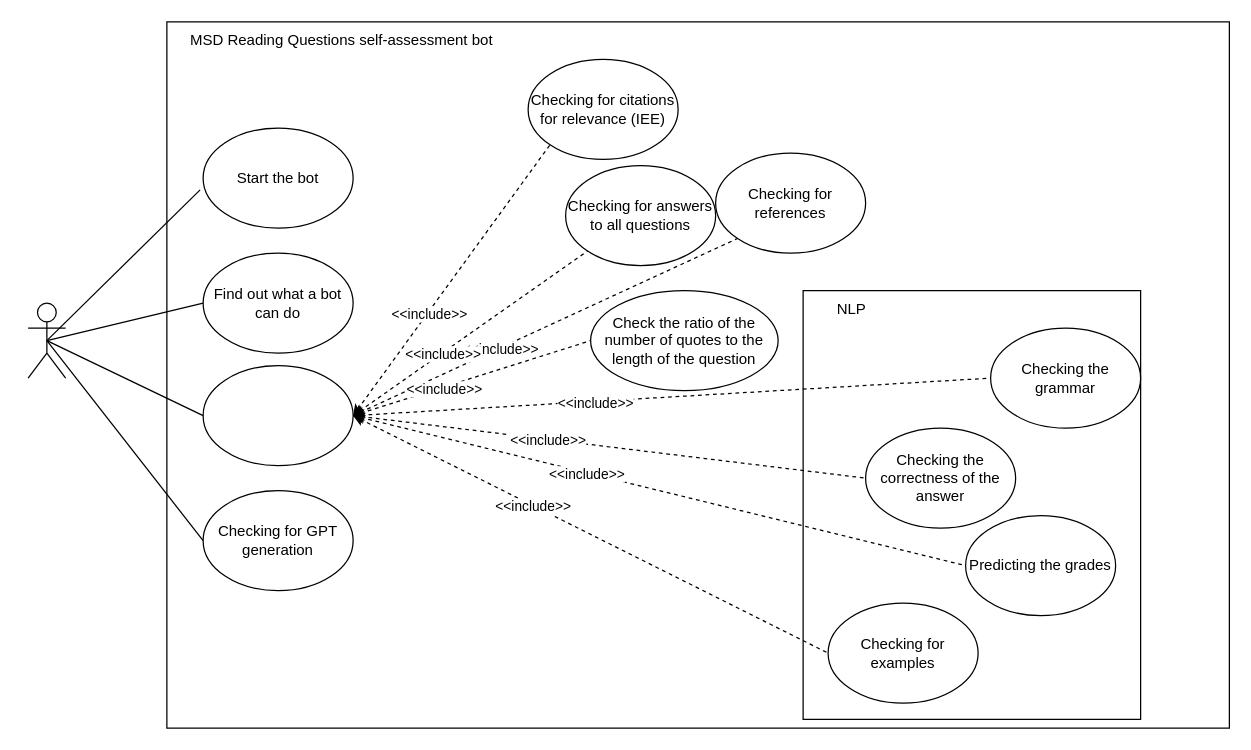
Some shapes in this 1251 by 750 pixel diagram are drawn without their labels. Here are the shapes that lost their labels. From the top down, the centre of each, then its label:
At (46,340): "Student".
At (277,415): "RQ Analysis".
